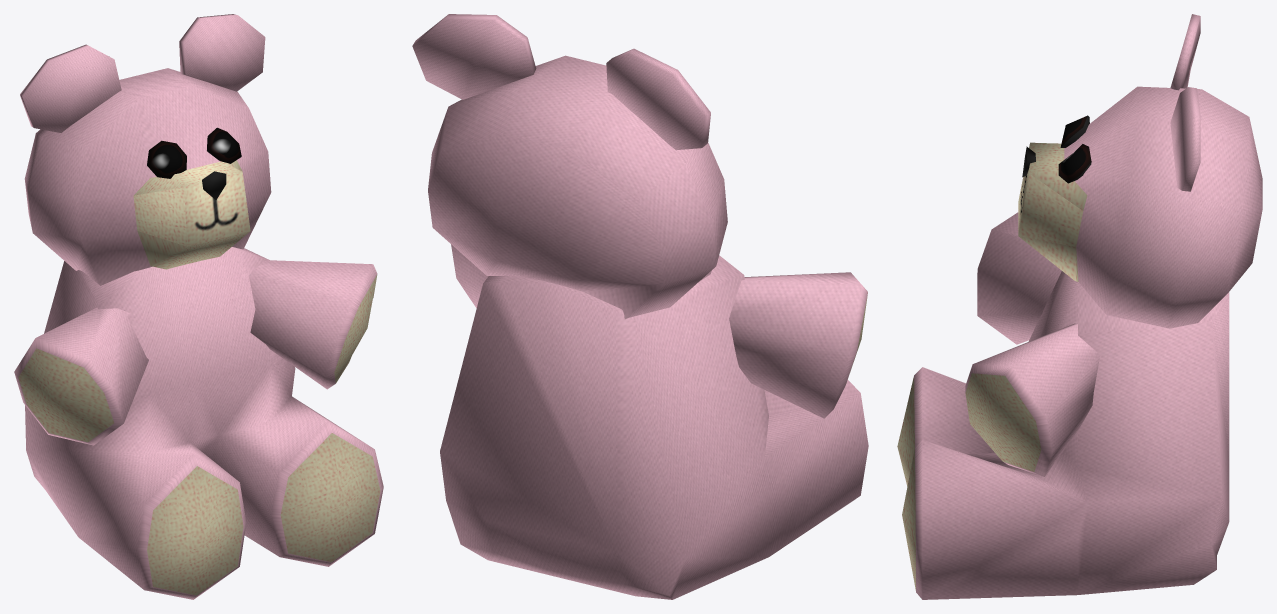
The model's file is Buddy_Bear_B.FBX.
3 renders of one model, left to right at view 1: azimuth 30°, elevation 25°; view 2: azimuth 150°, elevation 25°; view 3: azimuth 270°, elevation 25°, orthographic. The views are drawn at different scales.
Visible parts, largest first — view 1: Buddy_ Bear; view 2: Buddy_ Bear; view 3: Buddy_ Bear.
Boxes of the visible parts, x1=… form: Buddy_ Bear: x1=14, y1=14, x2=383, y2=599; Buddy_ Bear: x1=412, y1=14, x2=868, y2=599; Buddy_ Bear: x1=897, y1=14, x2=1262, y2=599.
Size of the model in its own units: 55.36 by 71.18 by 46.3.
